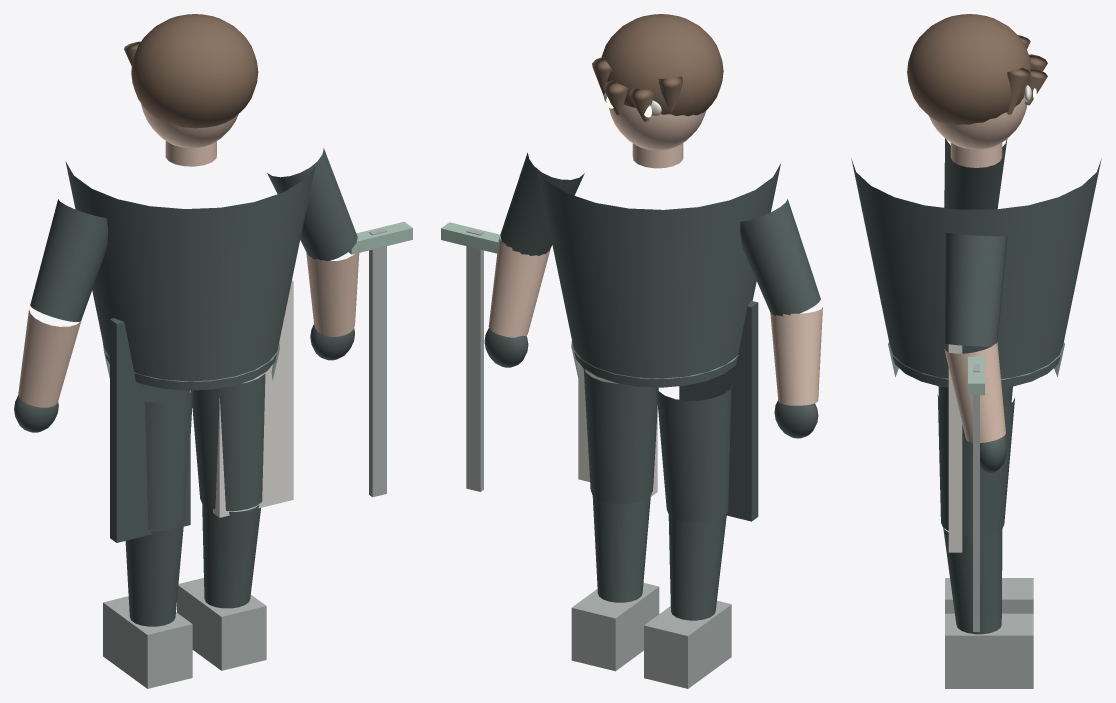
Rendered from luka-procedural-v1.glb.
The picture shows the model from 3 angles, left to right: view 1: azimuth 30°, elevation 25°; view 2: azimuth 150°, elevation 25°; view 3: azimuth 270°, elevation 25°; orthographic projection. The views are drawn at different scales.
Visible parts, largest first — view 1: Outfit_Torso, Hair_Cap, Outfit_CoatTail_L, Body_Thigh_R, Body_UpperArm_L, Outfit_CoatTail_R, Outfit_Boot_L, Body_Thigh_L, Outfit_Boot_R, Body_Shin_R, Body_Shin_L, Weapon_SwordBlade (+8 smaller); view 2: Outfit_Torso, Hair_Cap, Body_Thigh_L, Body_Thigh_R, Outfit_CoatTail_L, Body_UpperArm_L, Outfit_Boot_L, Outfit_Boot_R, Body_Shin_R, Body_Shin_L, Weapon_SwordBlade, Body_Forearm_L (+8 smaller); view 3: Outfit_Torso, Hair_Cap, Body_UpperArm_R, Outfit_Boot_R, Body_Thigh_R, Body_Shin_R, Body_Forearm_R, Body_UpperArm_L, Outfit_CoatTail_R, Body_Head, Weapon_SwordBlade, Outfit_Boot_L (+5 smaller).
Part boxes in pixels (left/top/right/bottom): Outfit_Torso: left=65, top=161, right=315, bottom=390; Hair_Cap: left=131, top=14, right=258, bottom=128; Outfit_CoatTail_L: left=110, top=318, right=190, bottom=542; Body_Thigh_R: left=191, top=373, right=265, bottom=510; Body_UpperArm_L: left=30, top=199, right=107, bottom=321; Outfit_CoatTail_R: left=213, top=280, right=293, bottom=517; Outfit_Boot_L: left=103, top=596, right=192, bottom=688; Body_Thigh_L: left=145, top=390, right=192, bottom=529; Outfit_Boot_R: left=177, top=578, right=266, bottom=670; Body_Shin_R: left=202, top=504, right=260, bottom=608; Body_Shin_L: left=125, top=523, right=183, bottom=626; Weapon_SwordBlade: left=369, top=228, right=386, bottom=497; Outfit_Torso: left=536, top=163, right=780, bottom=387; Hair_Cap: left=601, top=14, right=723, bottom=116; Body_Thigh_L: left=656, top=386, right=731, bottom=522; Body_Thigh_R: left=583, top=369, right=658, bottom=503; Outfit_CoatTail_L: left=679, top=300, right=758, bottom=521; Body_UpperArm_L: left=740, top=199, right=820, bottom=316; Outfit_Boot_L: left=644, top=600, right=731, bottom=688; Outfit_Boot_R: left=571, top=583, right=659, bottom=671; Body_Shin_R: left=592, top=495, right=650, bottom=602; Body_Shin_L: left=668, top=514, right=726, bottom=620; Weapon_SwordBlade: left=466, top=229, right=483, bottom=491; Body_Forearm_L: left=770, top=307, right=822, bottom=405; Outfit_Torso: left=851, top=158, right=1101, bottom=387; Hair_Cap: left=907, top=14, right=1031, bottom=125; Body_UpperArm_R: left=944, top=232, right=1007, bottom=346; Outfit_Boot_R: left=945, top=613, right=1033, bottom=688; Body_Thigh_R: left=937, top=395, right=1014, bottom=536; Body_Shin_R: left=943, top=528, right=1002, bottom=634; Body_Forearm_R: left=944, top=342, right=1005, bottom=442; Body_UpperArm_L: left=944, top=138, right=1007, bottom=209; Outfit_CoatTail_R: left=948, top=344, right=962, bottom=552; Body_Head: left=929, top=98, right=1027, bottom=149; Weapon_SwordBlade: left=973, top=364, right=979, bottom=631; Outfit_Boot_L: left=945, top=578, right=1033, bottom=613.
Bounding box in the file's own units: 1.16 × 1.85 × 0.6571.
